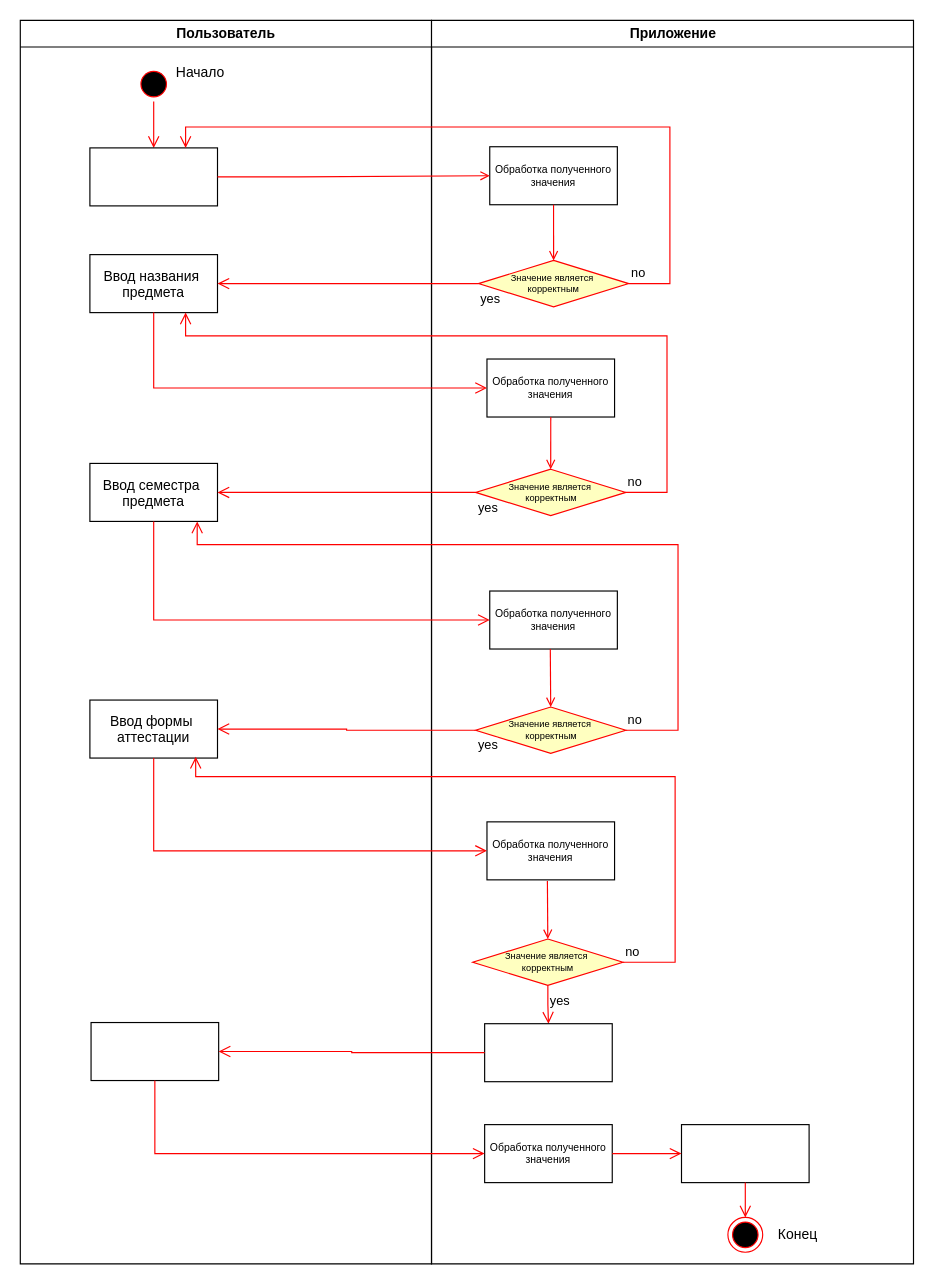
Some shapes in this 934 by 1284 pixel diagram are drawn without their labels. The centre of each missing label's shape, as x and y in pixels:
Ввод количества предметов: (153,176)
Ввод названия файла и пути сохранения: (154,1051)
Создание файла: (744,1153)
Сортировка предметов: (547,1052)
